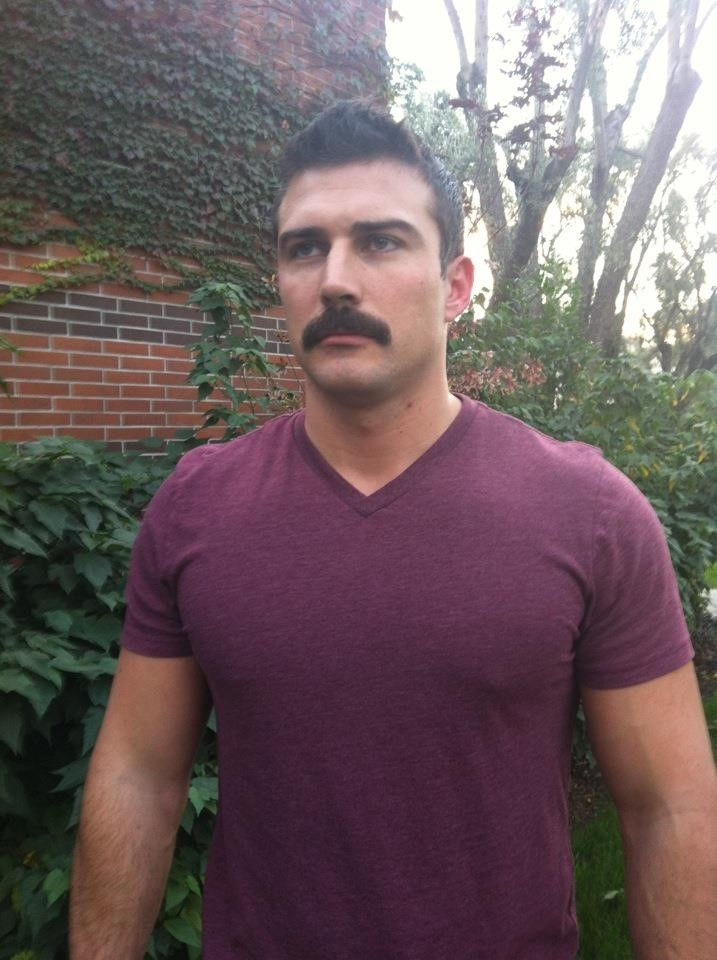face_no_mask: (260, 133, 484, 426)
